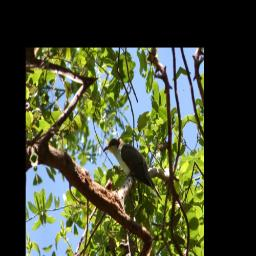Cuckoo: (101, 124, 161, 220)
